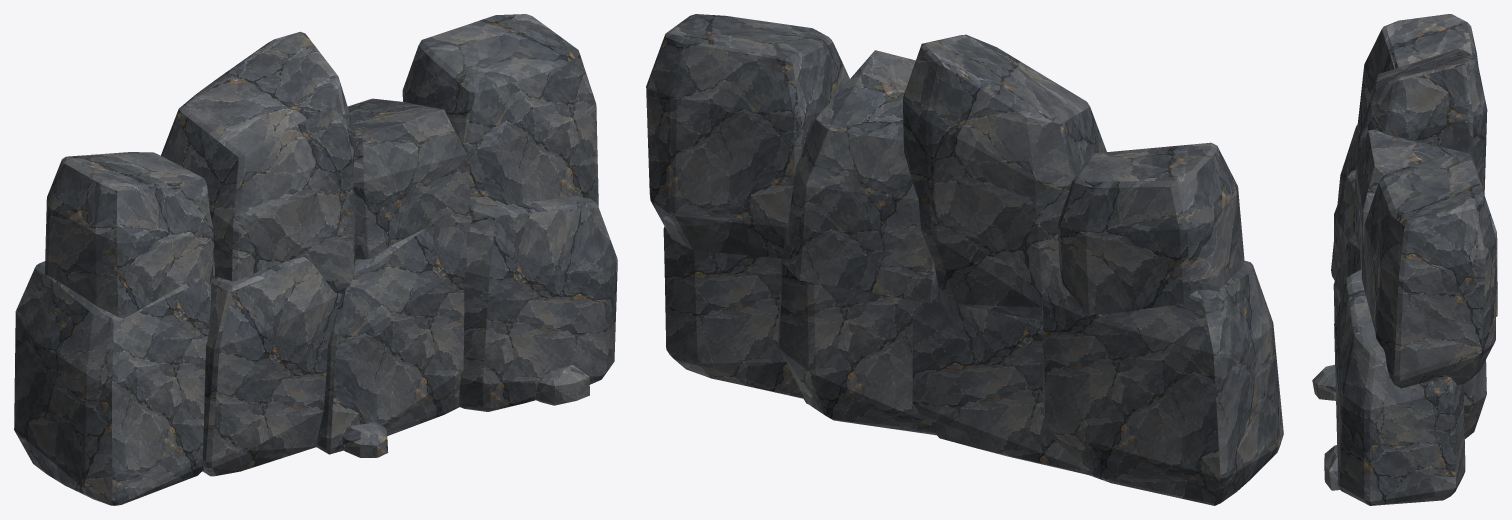
File: Cave_R09_WallSegment.fbx
3 renders of one model, left to right at view 1: azimuth 30°, elevation 25°; view 2: azimuth 150°, elevation 25°; view 3: azimuth 270°, elevation 25°, orthographic. The views are drawn at different scales.
Parts seen in each view (by area): view 1: Cave_R09_WallSegment_LOD0; view 2: Cave_R09_WallSegment_LOD0; view 3: Cave_R09_WallSegment_LOD0.
Boxes of the visible parts, box(x1,y1,x2,y2) form: Cave_R09_WallSegment_LOD0: box(14, 14, 617, 505); Cave_R09_WallSegment_LOD0: box(646, 14, 1283, 505); Cave_R09_WallSegment_LOD0: box(1312, 14, 1497, 505).
Size of what is drawn, in the model's own units: 4.85 by 3.1 by 1.56.
1 material, 1 textured.
